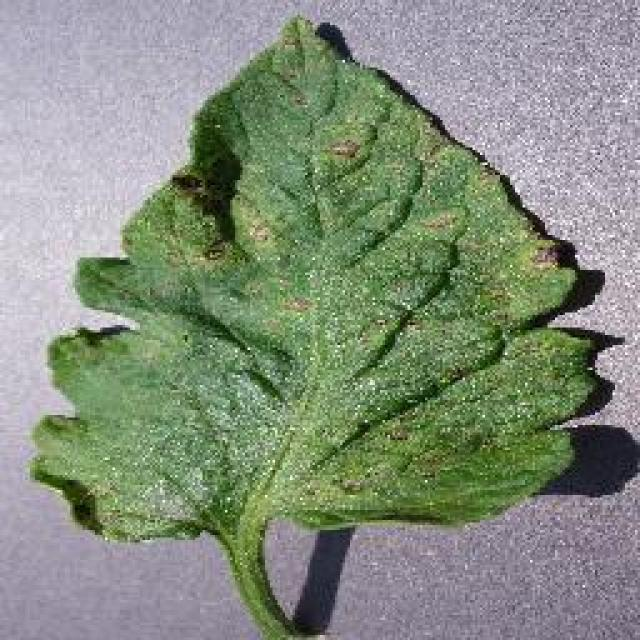Tomato target spot leaf: (31, 12, 601, 550)
